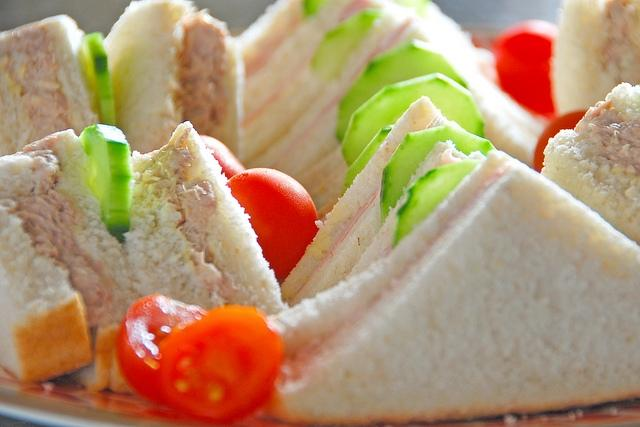cucumber: (340, 72, 486, 166), (336, 39, 470, 141), (380, 126, 496, 226), (396, 160, 480, 245), (78, 123, 136, 243), (310, 9, 382, 78), (340, 124, 394, 197), (82, 32, 116, 126), (300, 1, 322, 19)
tomato: (156, 304, 284, 425), (227, 168, 321, 286), (115, 294, 208, 411), (490, 17, 560, 122), (534, 109, 588, 174), (199, 134, 247, 180)
